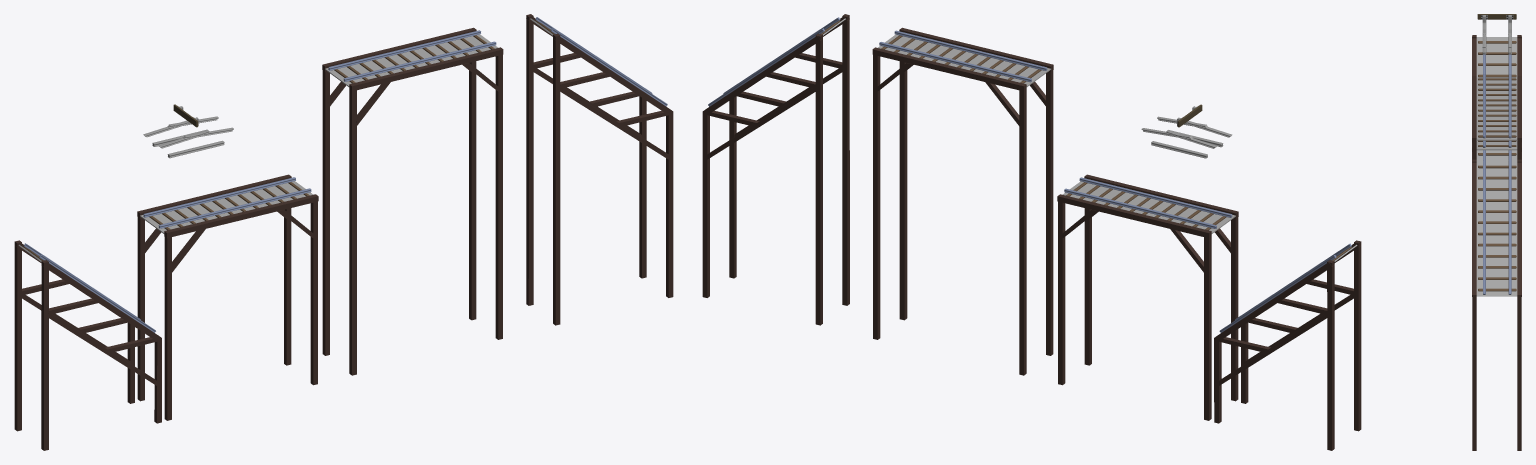
File: Guard rails + Upper Rails.fbx
3 views of the same model, side by side, from view 1: azimuth 30°, elevation 25°; view 2: azimuth 150°, elevation 25°; view 3: azimuth 270°, elevation 25° (orthographic). The views are drawn at different scales.
Visible parts, largest first — view 1: pCube33 (×4), pCube34 (×4), pCube32 (×4), pCube35 (×3), pCube30 (×4), pCube52, pCube54, pCube31 (×2), pCube40 (×2), pCube15 (×2), pCube47 (×2); view 2: pCube34 (×4), pCube33 (×4), pCube35 (×4), pCube32 (×3), pCube31 (×4), pCube52, pCube54, pCube30 (×2), pCube40 (×2), pCube15 (×2), pCube51 (×2); view 3: pCube53, pCube54, pCube46, pCube30 (×3), pCube31 (×3), pCube15 (×2), pCube32, pCube35, pCube40 (×2), pCube52, pCube63.
Boxes of the visible parts, x1,y1,x2,y2 form: pCube33 (×4): [41, 33, 560, 450]; pCube34 (×4): [14, 14, 533, 431]; pCube32 (×4): [154, 54, 673, 423]; pCube35 (×3): [284, 61, 646, 365]; pCube30 (×4): [41, 36, 673, 342]; pCube52: [140, 181, 312, 233]; pCube54: [325, 34, 498, 86]; pCube31 (×2): [137, 27, 476, 218]; pCube40 (×2): [158, 41, 496, 228]; pCube15 (×2): [143, 30, 480, 217]; pCube47 (×2): [48, 87, 668, 386]; pCube34 (×4): [815, 33, 1334, 450]; pCube33 (×4): [842, 14, 1361, 431]; pCube35 (×4): [702, 55, 1221, 423]; pCube32 (×3): [729, 61, 1091, 365]; pCube31 (×4): [702, 36, 1334, 342]; pCube52: [1062, 181, 1235, 233]; pCube54: [877, 34, 1051, 86]; pCube30 (×2): [899, 27, 1238, 218]; pCube40 (×2): [894, 30, 1232, 217]; pCube15 (×2): [879, 42, 1216, 228]; pCube51 (×2): [707, 88, 1327, 385]; pCube53: [1476, 161, 1517, 296]; pCube54: [1476, 77, 1517, 140]; pCube46: [1476, 37, 1517, 161]; pCube30 (×3): [1472, 36, 1476, 296]; pCube31 (×3): [1517, 36, 1521, 296]; pCube15 (×2): [1508, 74, 1511, 294]; pCube32: [1472, 295, 1476, 450]; pCube35: [1517, 295, 1521, 450]; pCube40 (×2): [1483, 74, 1485, 294]; pCube52: [1476, 140, 1517, 150]; pCube63: [1477, 14, 1516, 19].
Size of the model in its own units: 99.8 by 44.19 by 21.5.
